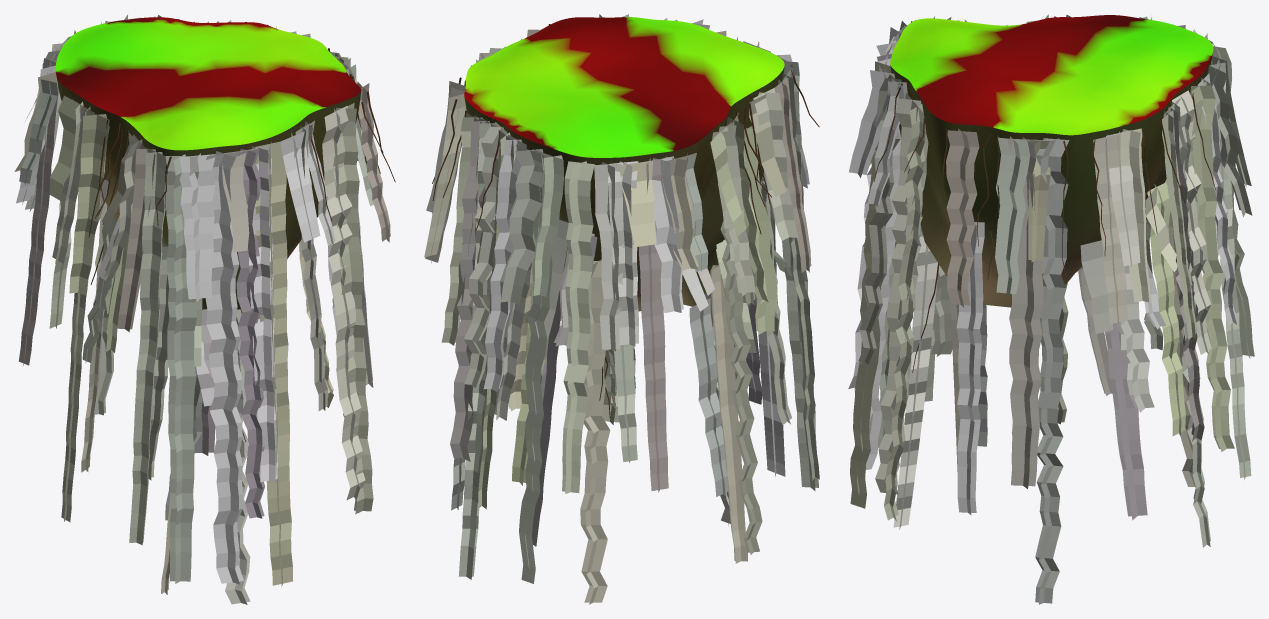
File: SM_H10_Floater02.fbx
The picture shows the model from 3 angles, left to right: view 1: azimuth 30°, elevation 25°; view 2: azimuth 150°, elevation 25°; view 3: azimuth 270°, elevation 25°; orthographic projection. The views are drawn at different scales.
Visible parts, largest first — view 1: SM_H10_Floater02_Ivy, SM_H10_Floater02; view 2: SM_H10_Floater02_Ivy, SM_H10_Floater02; view 3: SM_H10_Floater02_Ivy, SM_H10_Floater02.
Boxes of the visible parts, x1,y1,x2,y2 form: SM_H10_Floater02_Ivy: (14,14,395,604); SM_H10_Floater02: (55,17,361,313); SM_H10_Floater02_Ivy: (424,14,819,604); SM_H10_Floater02: (464,17,784,311); SM_H10_Floater02_Ivy: (848,14,1254,604); SM_H10_Floater02: (890,15,1213,307).
Bounding box in the file's own units: 20.43 × 30.89 × 23.19.
